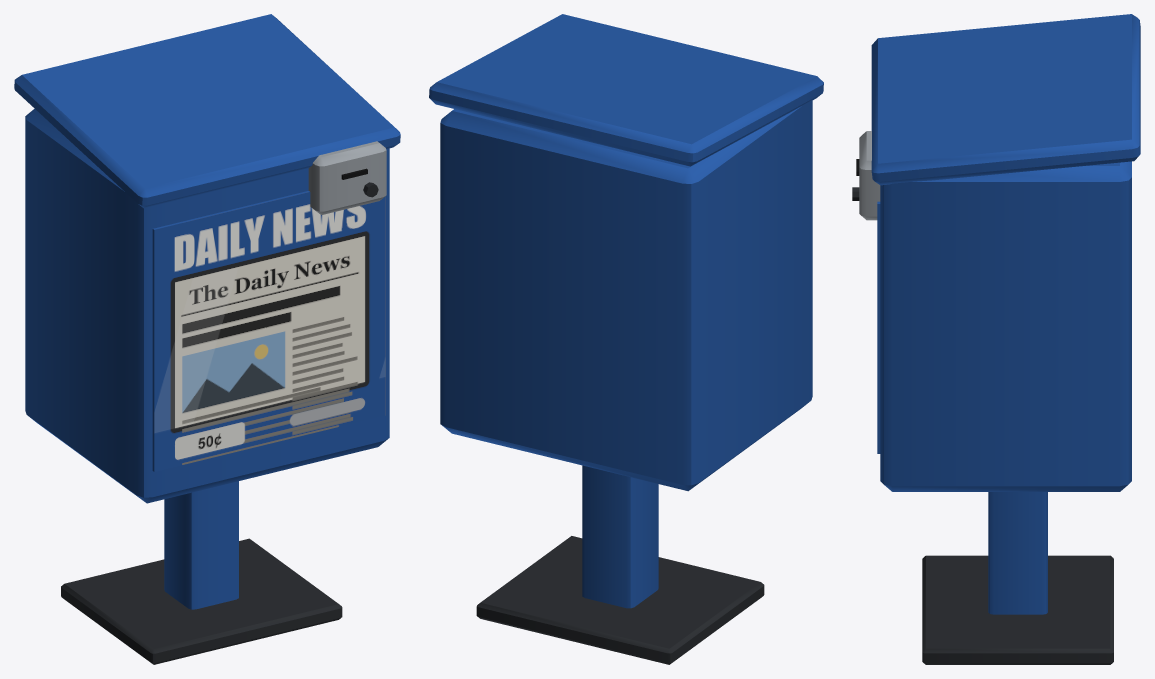
File: NewsBox_DailyNews.fbx
The picture shows the model from 3 angles, left to right: view 1: azimuth 30°, elevation 25°; view 2: azimuth 150°, elevation 25°; view 3: azimuth 270°, elevation 25°; orthographic projection. The views are drawn at different scales.
Parts seen in each view (by area): view 1: NewsBox_DailyNews_Mesh; view 2: NewsBox_DailyNews_Mesh; view 3: NewsBox_DailyNews_Mesh.
Part boxes in pixels (x1=…): NewsBox_DailyNews_Mesh: x1=14, y1=14, x2=400, y2=664; NewsBox_DailyNews_Mesh: x1=429, y1=14, x2=823, y2=664; NewsBox_DailyNews_Mesh: x1=852, y1=14, x2=1140, y2=664.
Size of the model in its own units: 0.52 by 0.9972 by 0.4816.
